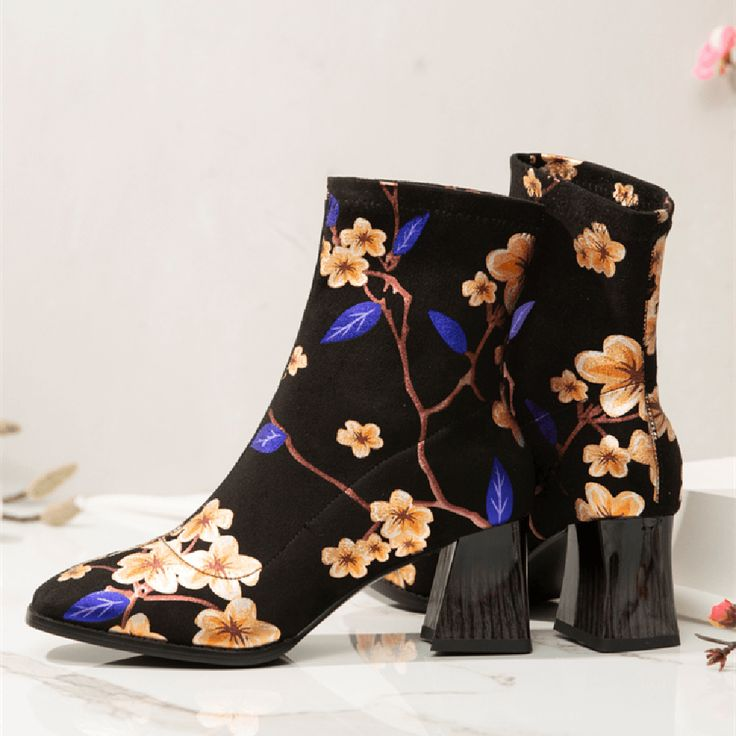gamuza: (30, 153, 684, 650)
